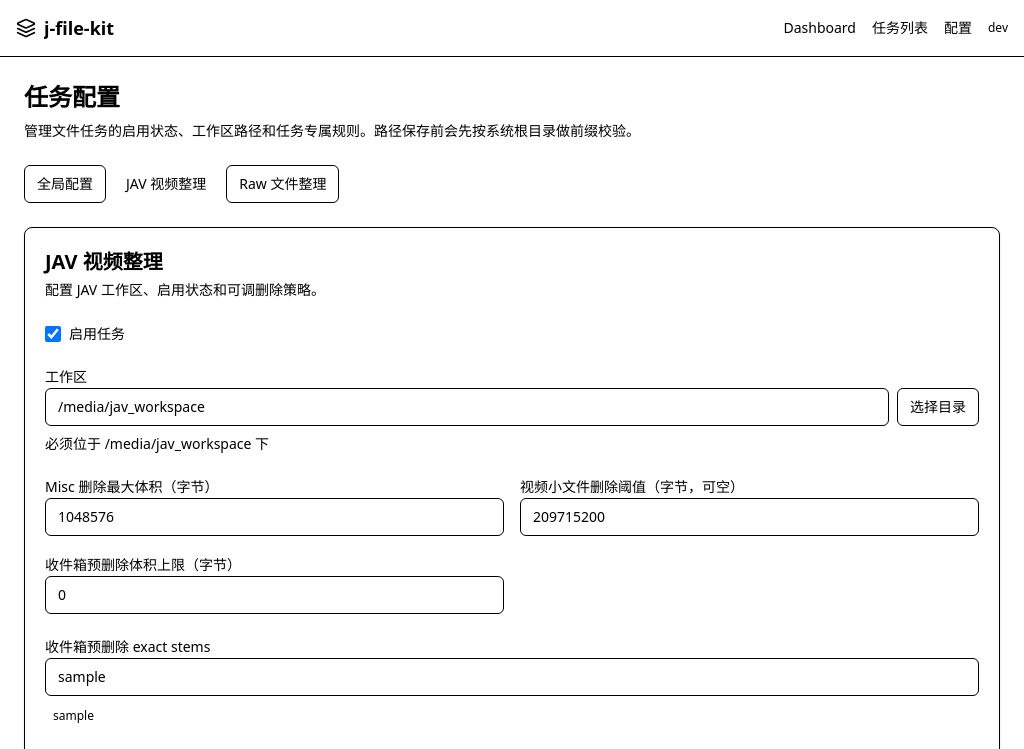
Scenario: Config page › renders readonly global system config and defaults
Click the tab "全局配置": (65, 184) [24,165,106,203]
(page scrolled)
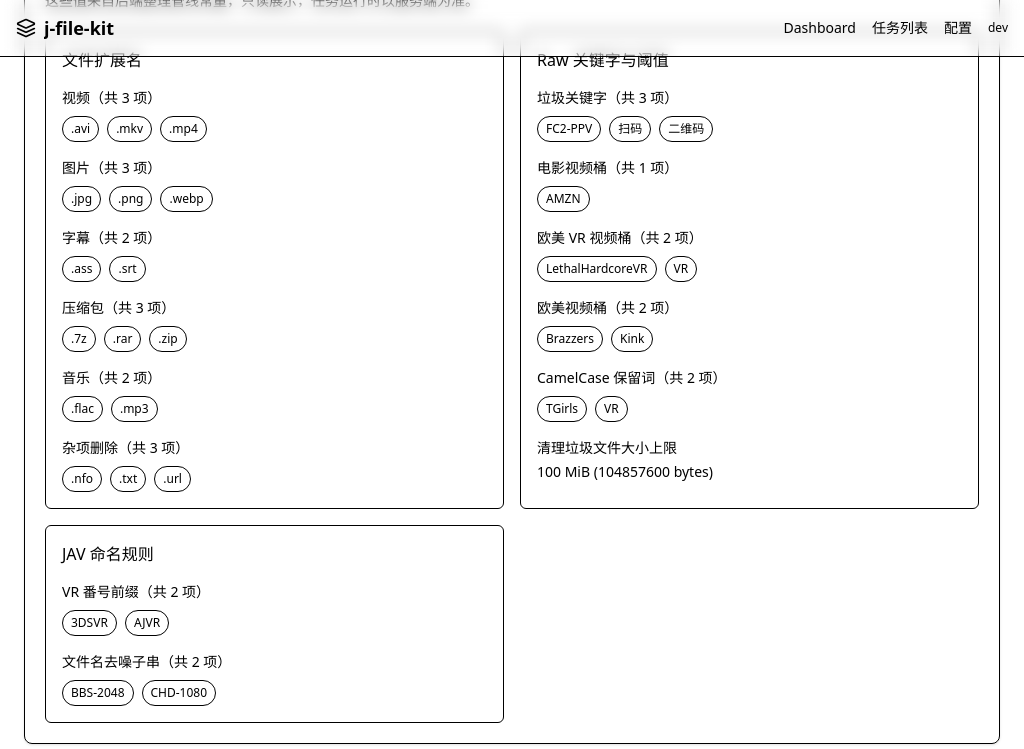
Expected: the text "视频（共 3 项）" is shown, [62,88,161,107]
Expected: the text ".mp4" is shown, [160,116,207,142]
Expected: the text "垃圾关键字（共 3 项）" is shown, [537,88,678,107]
